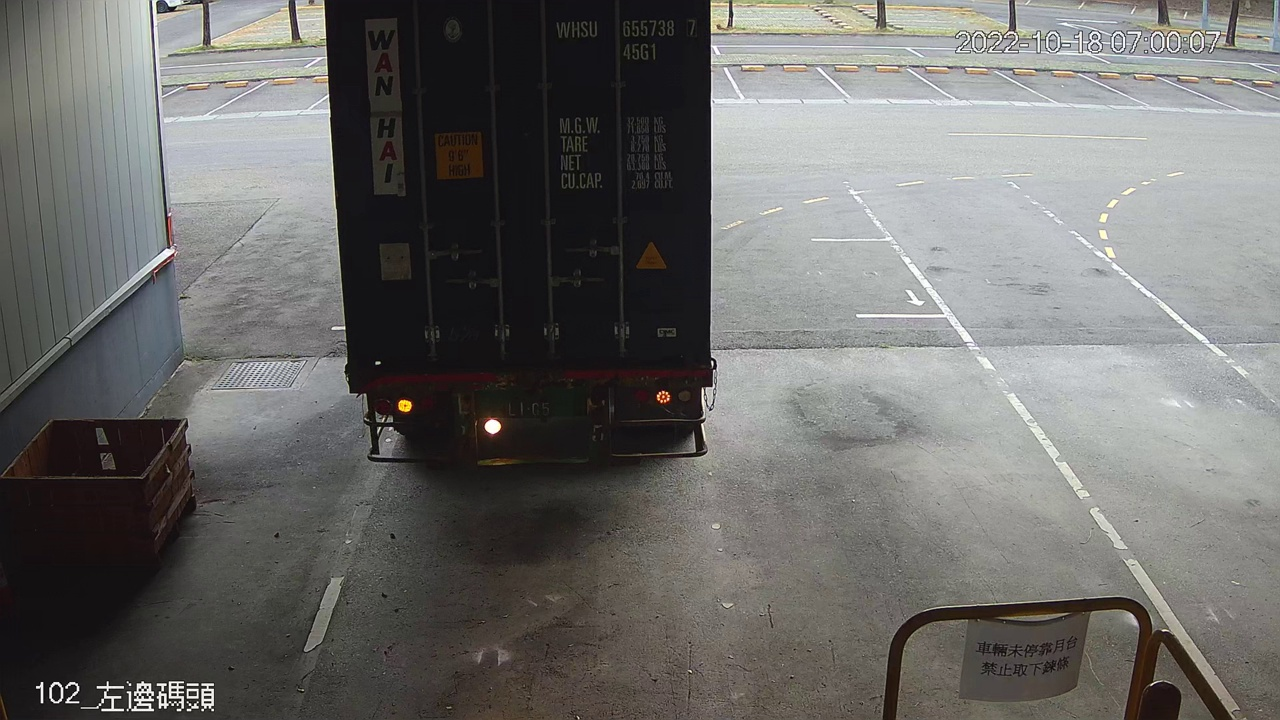container: (550, 12, 705, 70)
